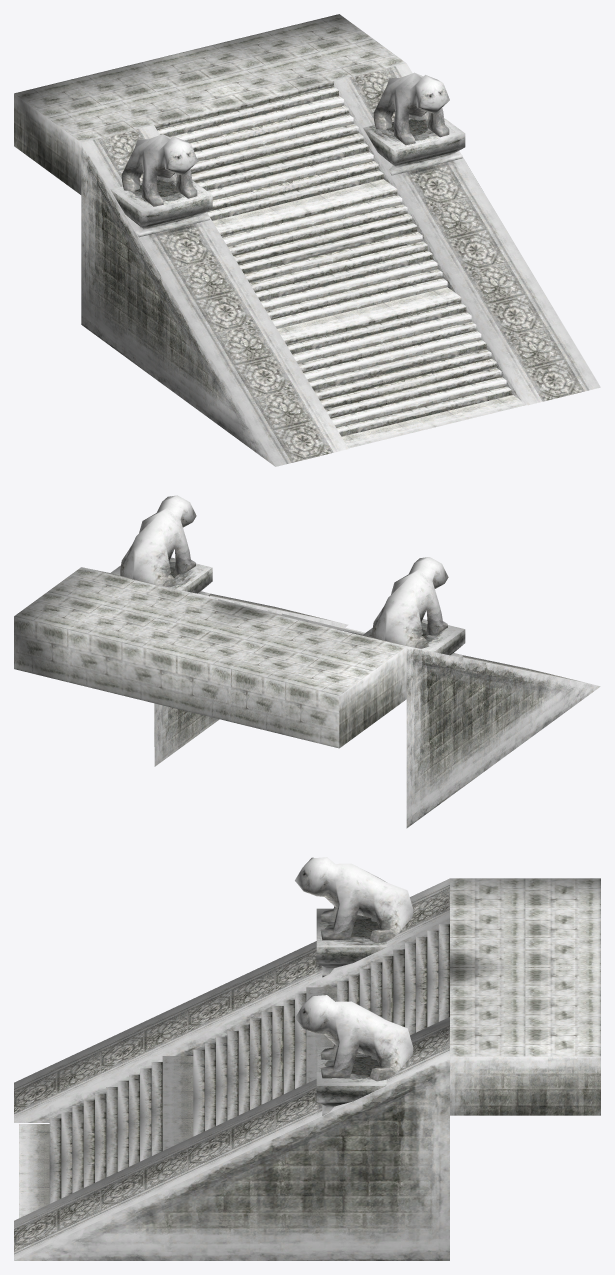
The model's file is snow-002-inwall-02.glb.
The picture shows the model from 3 angles, top to bottom: view 1: azimuth 30°, elevation 25°; view 2: azimuth 150°, elevation 25°; view 3: azimuth 270°, elevation 25°; orthographic projection. The views are drawn at different scales.
Visible parts, largest first — view 1: snow-002-inwall-02; view 2: snow-002-inwall-02; view 3: snow-002-inwall-02.
Part boxes in pixels (x1,y1,x2,y2): snow-002-inwall-02: [14, 14, 600, 466]; snow-002-inwall-02: [14, 495, 600, 828]; snow-002-inwall-02: [14, 857, 600, 1260].
Bounding box in the file's own units: 11.38 × 7.39 × 15.85.
1 material, 1 textured.
